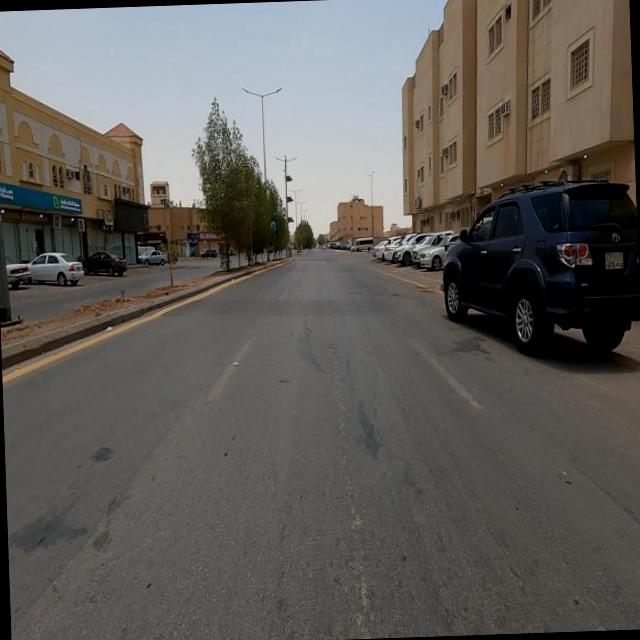debris: (88, 313, 134, 350)
